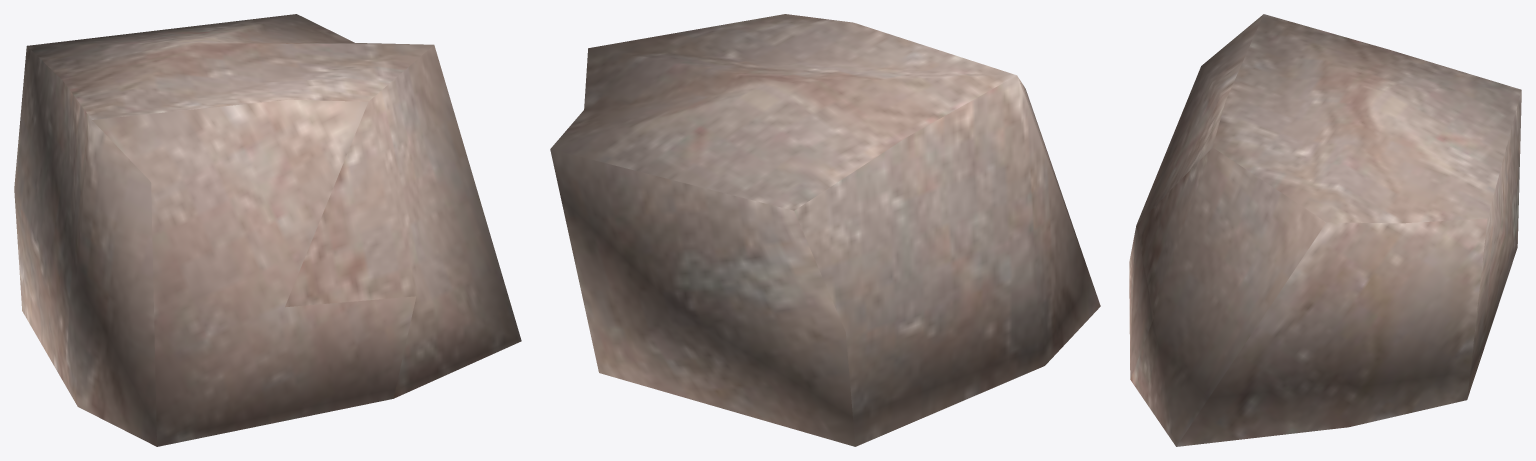
File: Q_Limestone_6.fbx
The picture shows the model from 3 angles, left to right: view 1: azimuth 30°, elevation 25°; view 2: azimuth 150°, elevation 25°; view 3: azimuth 270°, elevation 25°; orthographic projection. The views are drawn at different scales.
Visible parts, largest first — view 1: Aset_rock_rough_S_udqhfcyva_01_LOD8; view 2: Aset_rock_rough_S_udqhfcyva_01_LOD8; view 3: Aset_rock_rough_S_udqhfcyva_01_LOD8.
Boxes of the visible parts, x1,y1,x2,y2 form: Aset_rock_rough_S_udqhfcyva_01_LOD8: (14,14,521,446); Aset_rock_rough_S_udqhfcyva_01_LOD8: (550,14,1100,446); Aset_rock_rough_S_udqhfcyva_01_LOD8: (1129,14,1521,446).
Size of the model in its own units: 4.86 by 3.27 by 4.42.
Materials: 1 (1 with a texture image).
